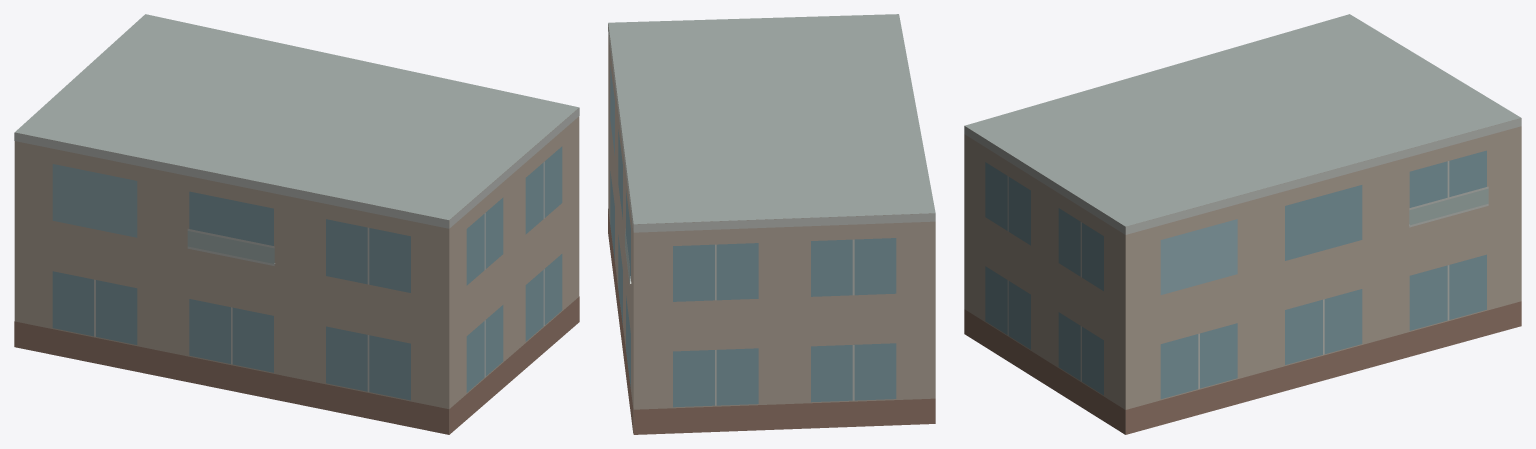
File: survey-upis-33007625.glb
3 renders of one model, left to right at view 1: azimuth 30°, elevation 25°; view 2: azimuth 150°, elevation 25°; view 3: azimuth 270°, elevation 25°, orthographic. The views are drawn at different scales.
Parts seen in each view (by area): view 1: survey-upis-33007625.tmp; view 2: survey-upis-33007625.tmp; view 3: survey-upis-33007625.tmp.
Boxes of the visible parts, left/top/right/bottom form: survey-upis-33007625.tmp: left=14, top=14, right=579, bottom=434; survey-upis-33007625.tmp: left=608, top=14, right=935, bottom=434; survey-upis-33007625.tmp: left=964, top=14, right=1521, bottom=434.
Size of the model in its own units: 13.37 by 6.1 by 14.8.
